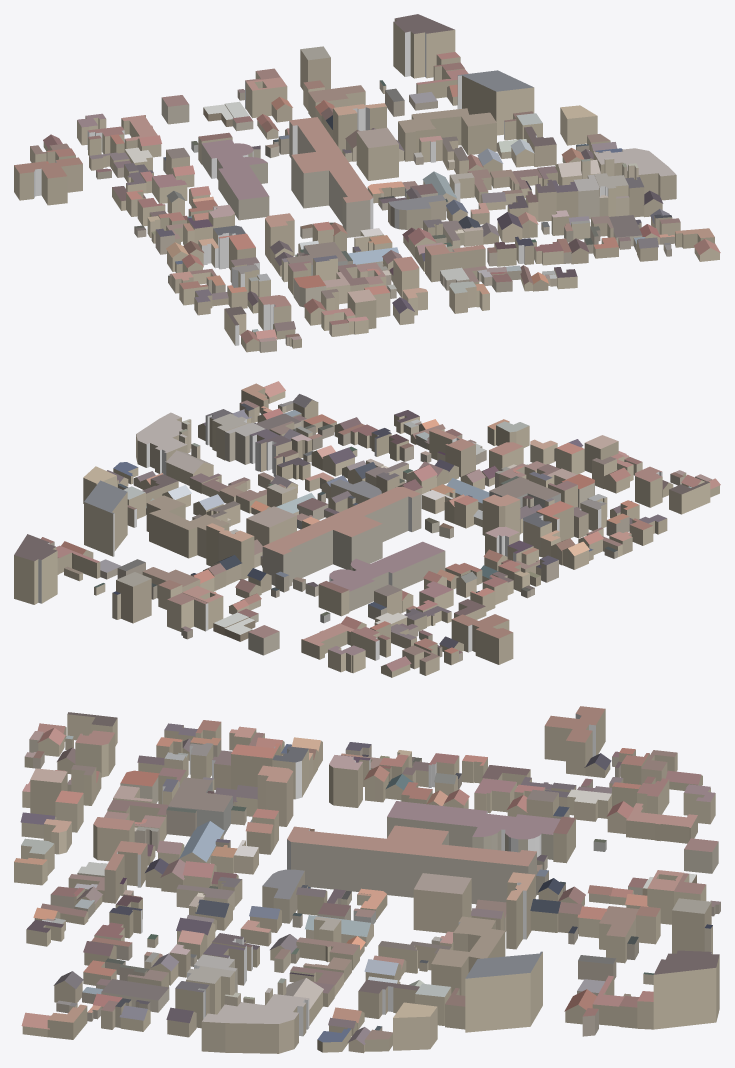
3 renders of one model, top to bottom at view 1: azimuth 30°, elevation 25°; view 2: azimuth 150°, elevation 25°; view 3: azimuth 270°, elevation 25°, orthographic. The views are drawn at different scales.
Visible parts, largest first — view 1: tuile; view 2: tuile; view 3: tuile.
Part boxes in pixels (x1,y1,x2,y2): tuile: [14, 14, 720, 352]; tuile: [14, 381, 720, 677]; tuile: [14, 706, 720, 1053].
Size of the model in its own units: 263 by 24.02 by 258.
